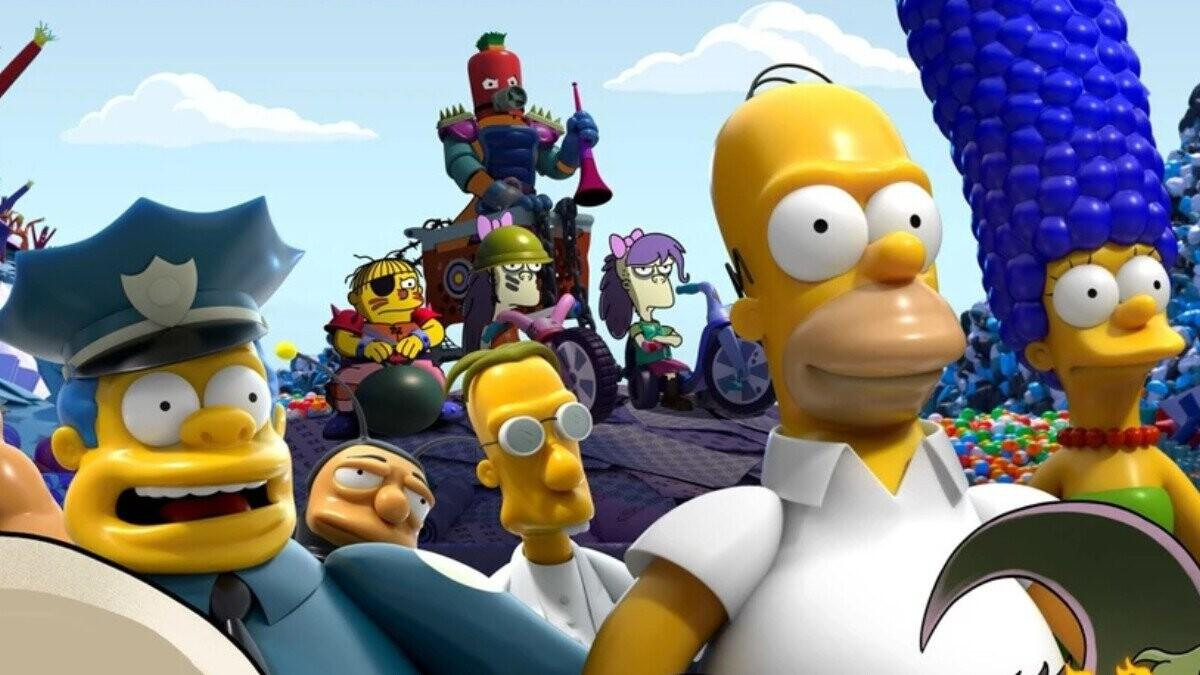Homer: (673, 59, 1003, 550)
Marge: (891, 2, 1200, 499)
